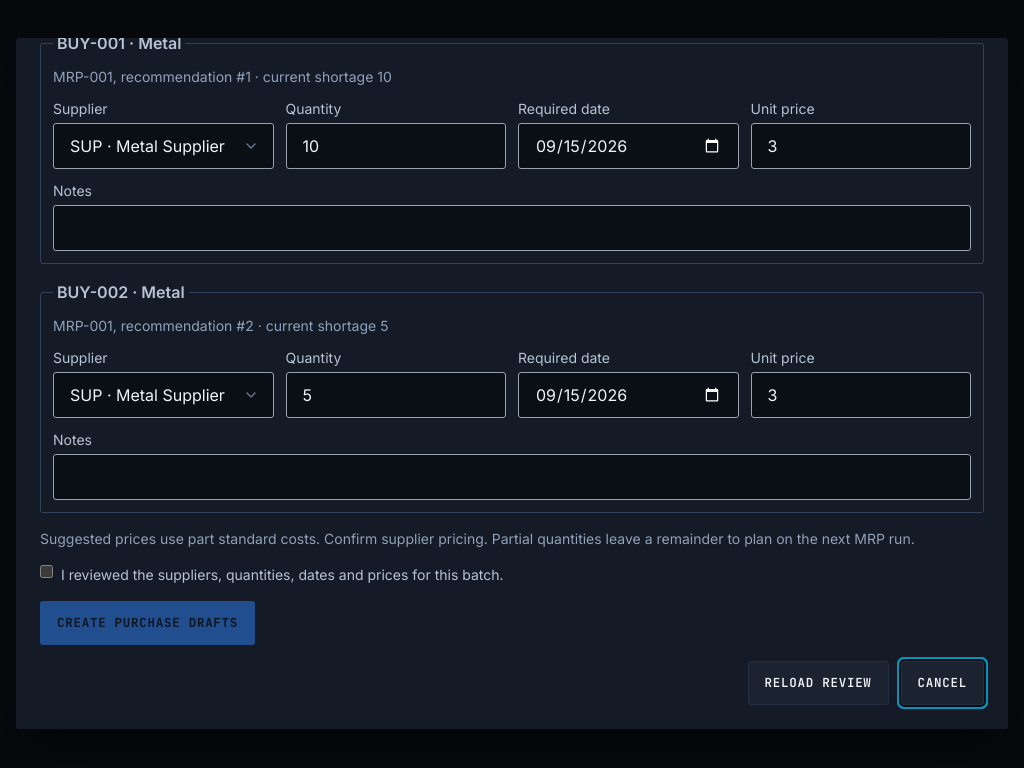
reviews grouped supplier costs and requires acknowledgement before creating draft POs
(page scrolled)
expect the button "Create purchase drafts" is disabled: met, box [40,601,255,645]
Click the checkbox.
click(46, 572)  # box [40,565,53,578]
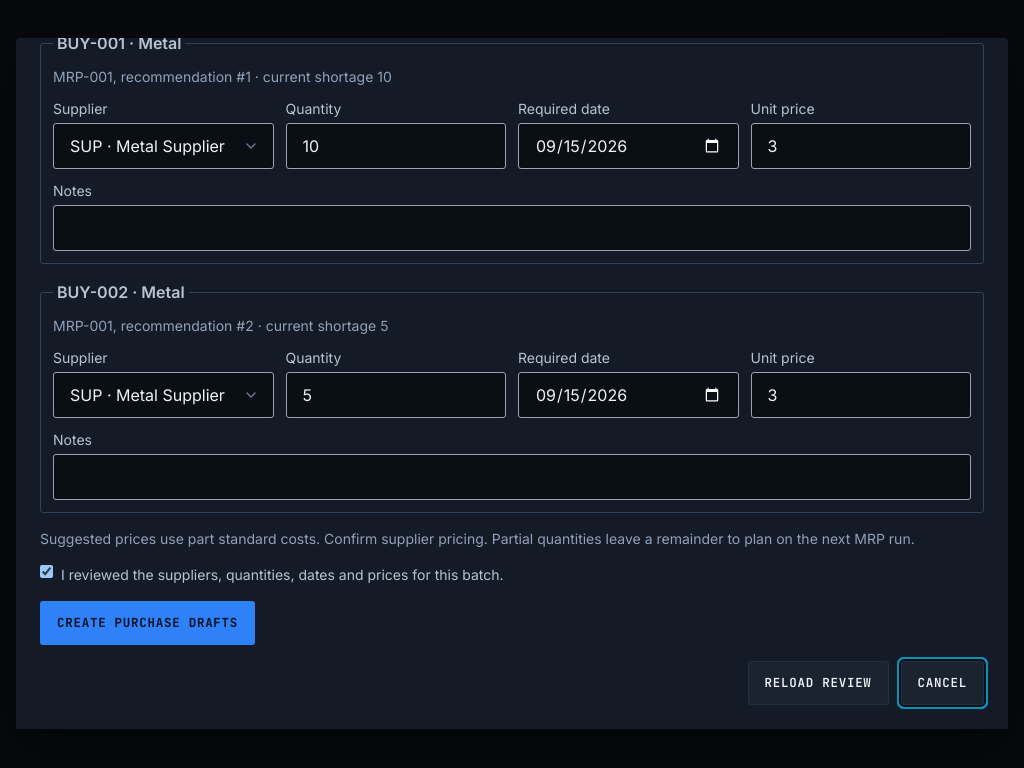
Replace the text in the number field named "Quantity for BUY-001" with "2.5" at (396, 146), box [286,123,506,169]
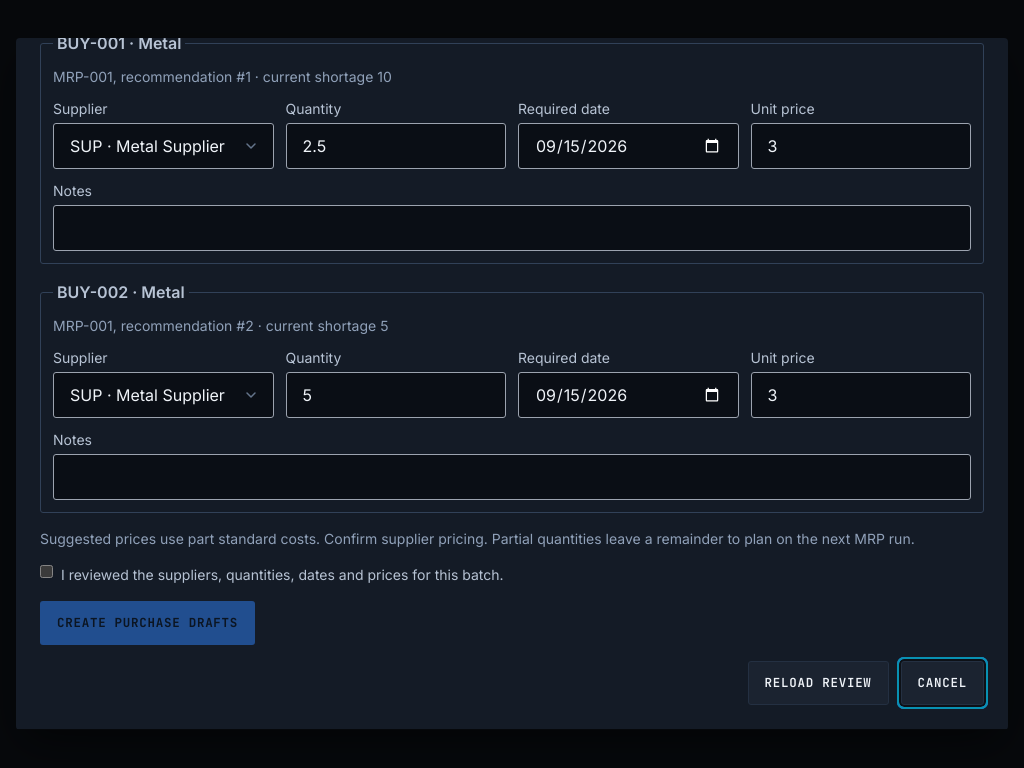
expect the checkbox is not checked: met
Click the checkbox.
click(46, 572)  # box [40,565,53,578]
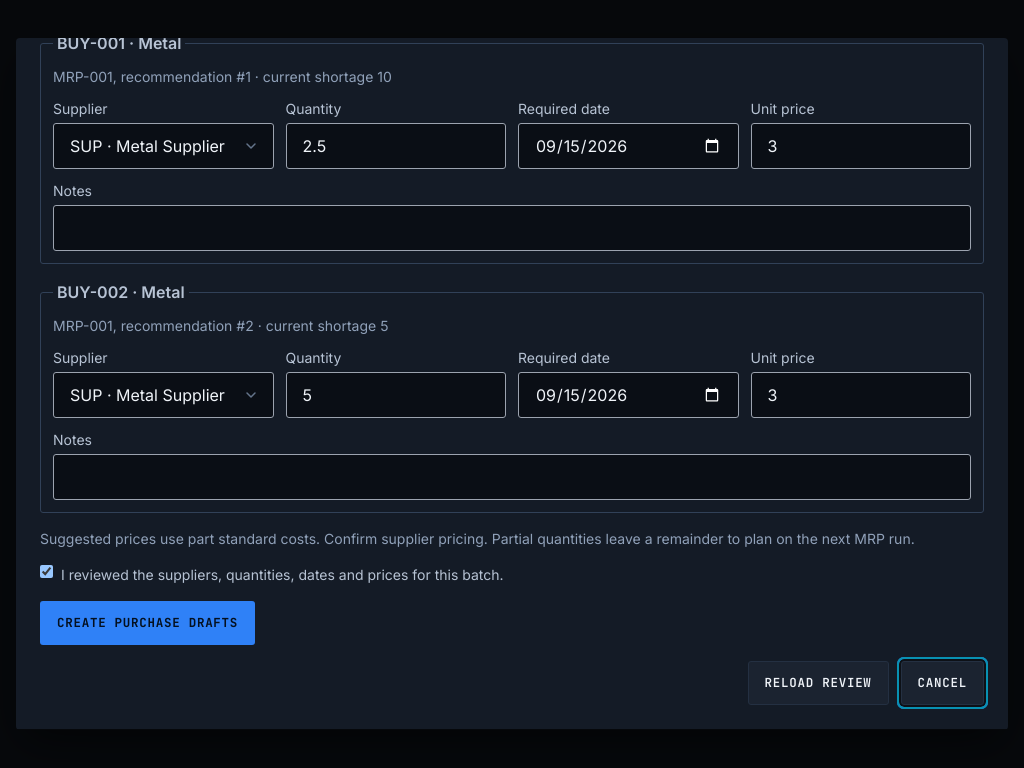
Click the button "Create purchase drafts".
click(148, 623)  # box [40,601,255,645]
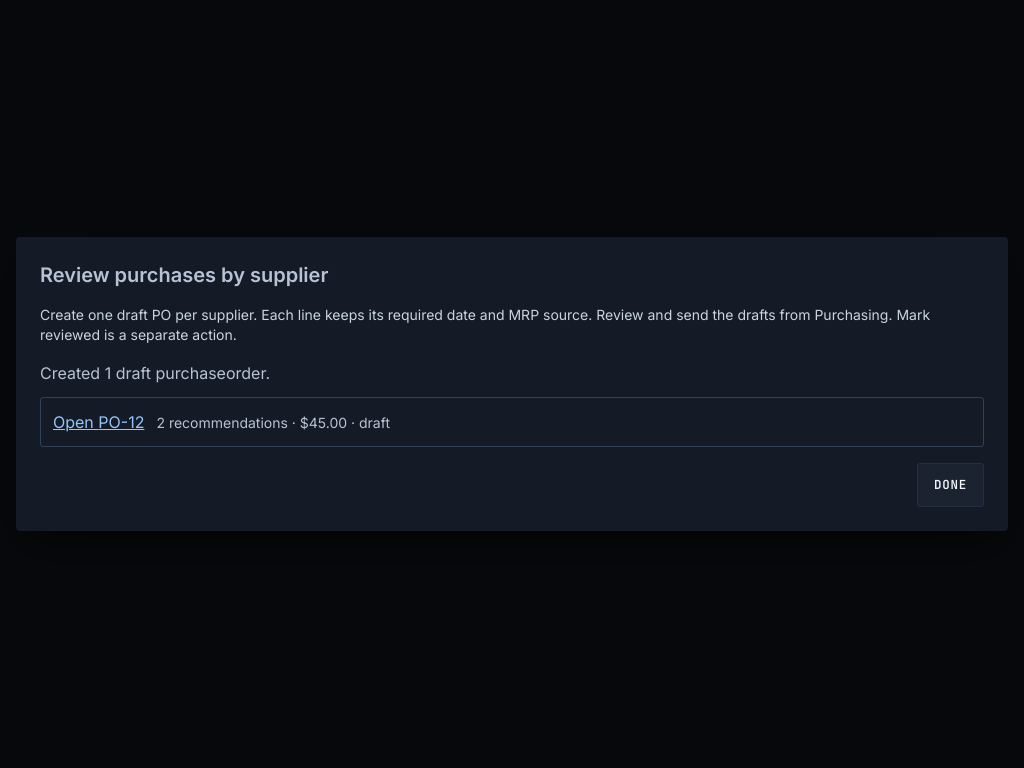
expect the link "Open PO-12" is shown: met, box [53,412,144,432]
